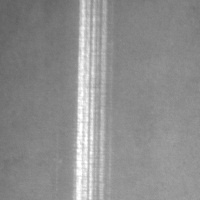scratches: (73, 0, 114, 199)
